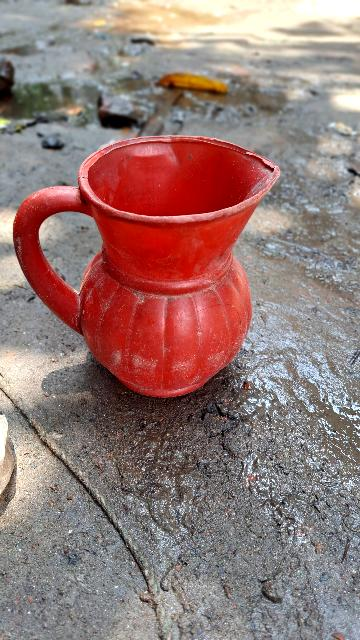hardplastic: (19, 127, 282, 405)
